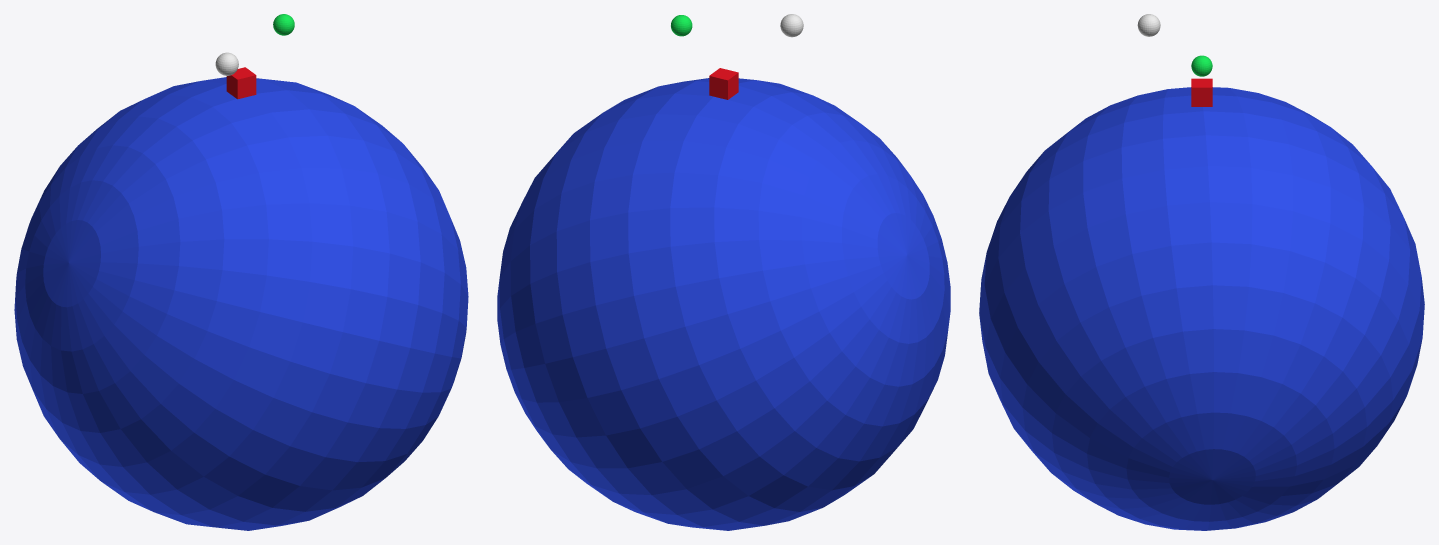
The model's file is spheres_cube_material.glb.
3 renders of one model, left to right at view 1: azimuth 30°, elevation 25°; view 2: azimuth 150°, elevation 25°; view 3: azimuth 270°, elevation 25°, orthographic. The views are drawn at different scales.
Parts seen in each view (by area): view 1: Sphere.002, Cube; view 2: Sphere.002, Cube; view 3: Sphere.002, Cube.
Part boxes in pixels (left/top/right/bottom): Sphere.002: left=14, top=77, right=468, bottom=530; Cube: left=226, top=67, right=256, bottom=99; Sphere.002: left=497, top=78, right=950, bottom=530; Cube: left=709, top=68, right=738, bottom=99; Sphere.002: left=979, top=87, right=1424, bottom=530; Cube: left=1191, top=78, right=1212, bottom=106.
Bounding box in the file's own units: 41.87 × 49.35 × 41.88.
